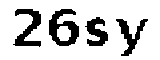2: (12, 5, 45, 52)
6: (46, 6, 82, 50)
s: (85, 15, 111, 50)
y: (114, 12, 149, 60)
